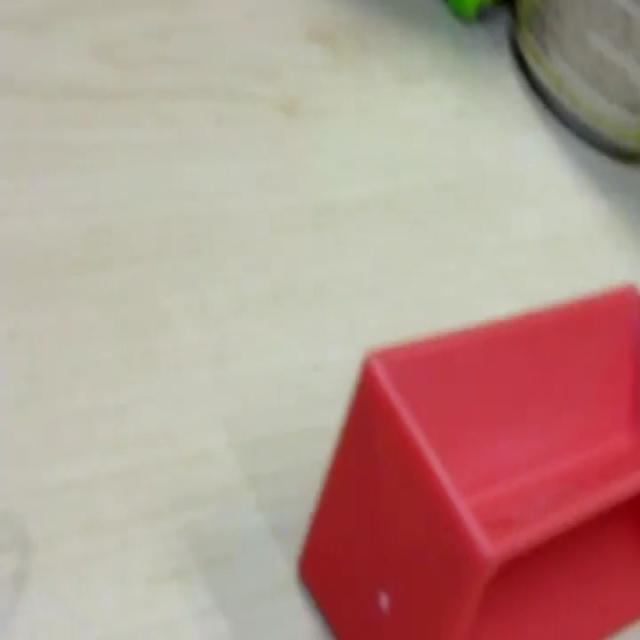red_block: (296, 279, 638, 636)
